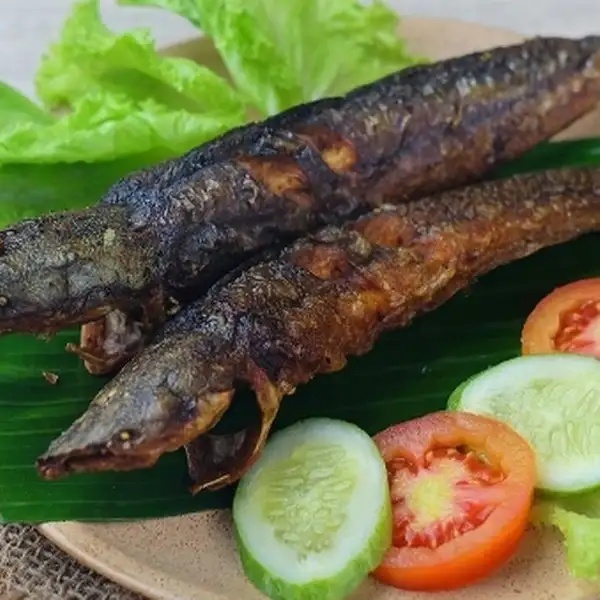pecel_lele: (126, 36, 600, 307)
